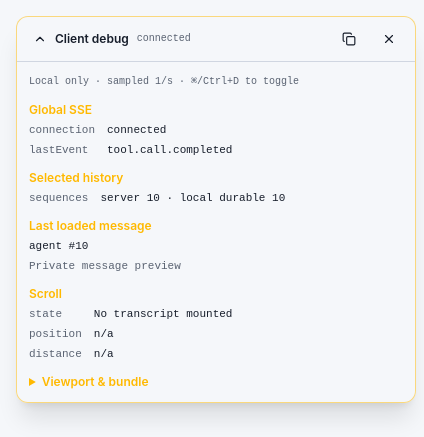
Test case: samples only the panel, supports collapse, and stops sampling on unmount
Expected: the text "Private message preview" is shown, 29,260 -> 181,272
Click the button "Client debug connected" at (176, 39), box 25,21 -> 327,57
Wait 1000 ms
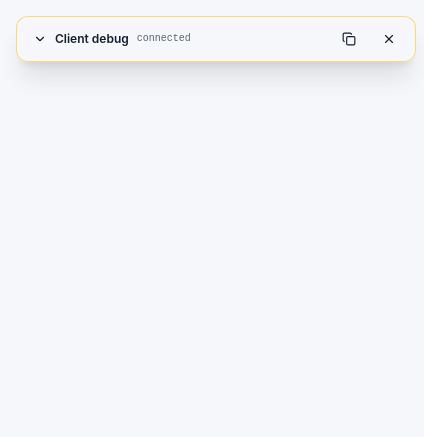
Expected: the text "Private message preview" is gone
Expected: the button "Client debug connected" is collapsed, 25,21 -> 327,57
